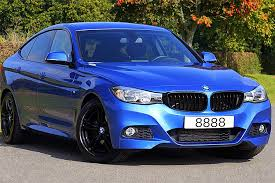number_plate: (183, 115, 238, 131)
